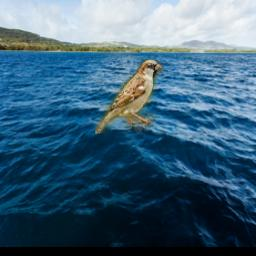Sparrow: (94, 59, 162, 134)
